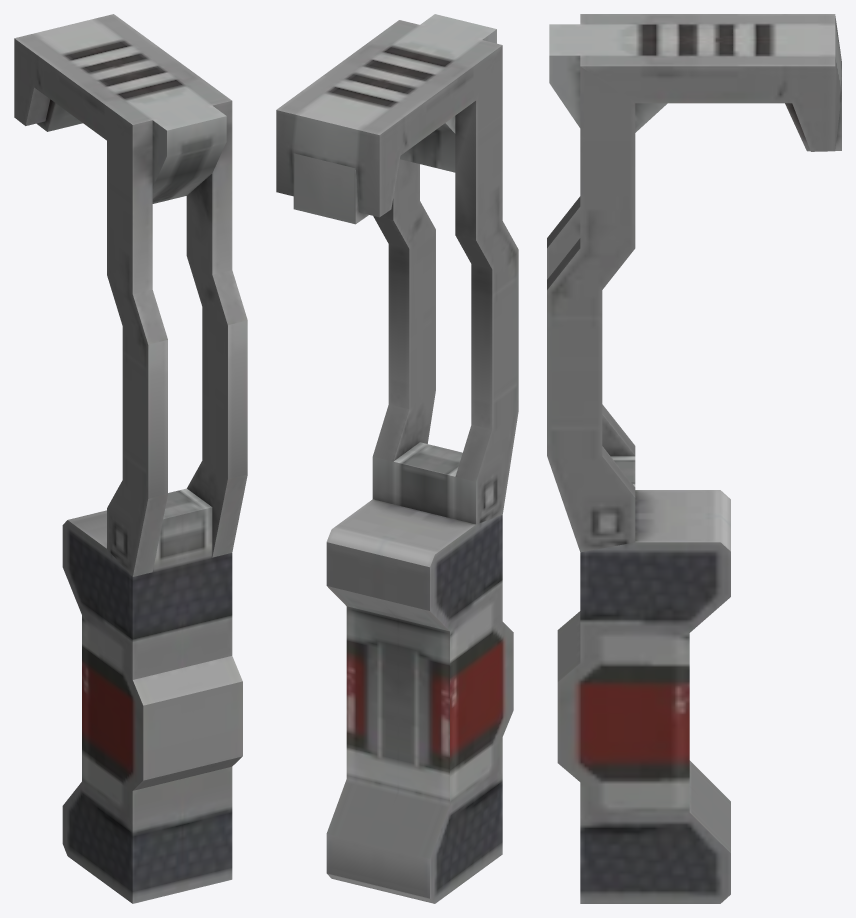
File: Part - Pylon 05-CEPPeQHo.glb
3 renders of one model, left to right at view 1: azimuth 30°, elevation 25°; view 2: azimuth 150°, elevation 25°; view 3: azimuth 270°, elevation 25°, orthographic. The views are drawn at different scales.
Parts seen in each view (by area): view 1: Pylon_05; view 2: Pylon_05; view 3: Pylon_05.
Part boxes in pixels (<box>): Pylon_05: <box>14,14,247,903</box>; Pylon_05: <box>276,14,518,903</box>; Pylon_05: <box>547,14,841,903</box>.
Bounding box in the file's own units: 0.2671 × 2 × 0.637.
1 material, 1 textured.
